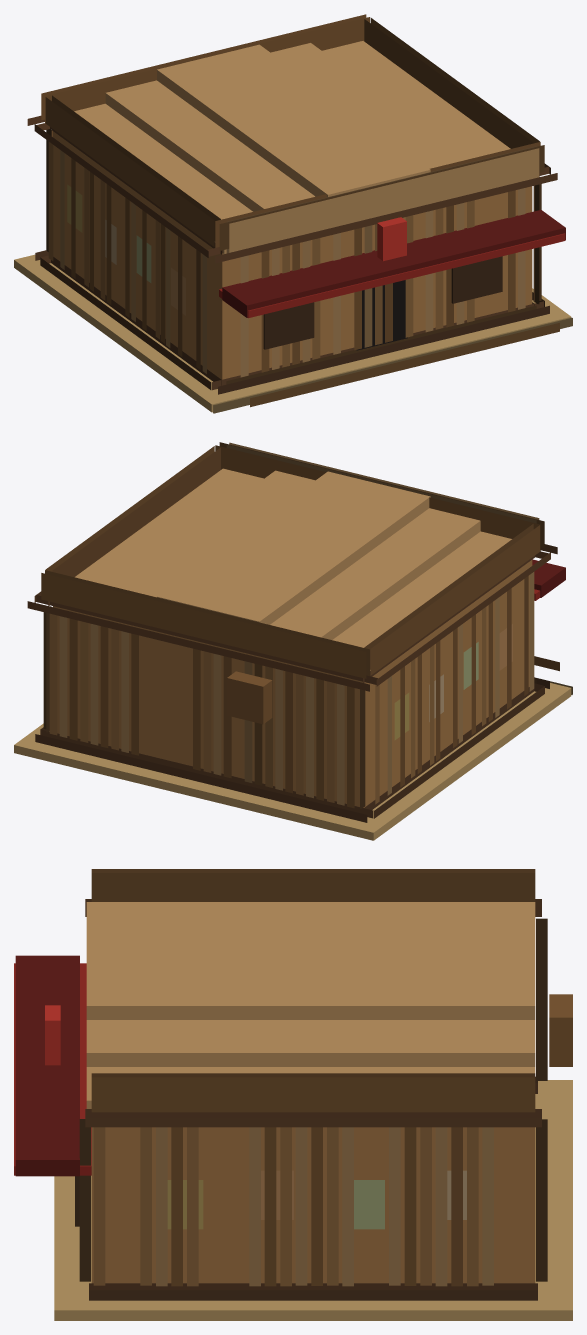
Rendered from CactusBoxerSil.fbx.
The picture shows the model from 3 angles, top to bottom: view 1: azimuth 30°, elevation 25°; view 2: azimuth 150°, elevation 25°; view 3: azimuth 270°, elevation 25°; orthographic projection. The views are drawn at different scales.
Parts seen in each view (by area): view 1: CB_S_All; view 2: CB_S_All; view 3: CB_S_All.
Boxes of the visible parts, <box> form: CB_S_All: <box>14,14,572,413</box>; CB_S_All: <box>14,442,572,840</box>; CB_S_All: <box>14,869,572,1320</box>.
Size of the model in its own units: 42.04 by 19.8 by 43.14.
